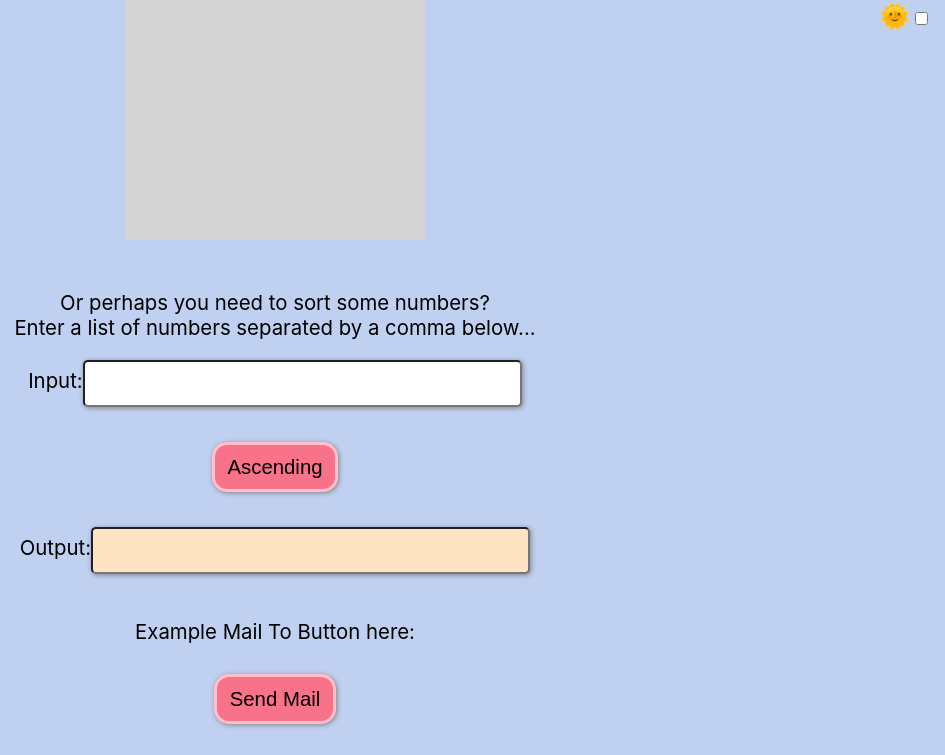
Scenario: As a user, I should be able to interact with all interactables in the home page › Makes sure the number sort properly in ascending order
This screenshot has width=945, height=755.
(page scrolled)
Type "1,4,2,5" into the field with class "Details-Form-Input" next to "Input:".
click(303, 385); type("1,4,2,5")  # box [83,361,522,408]
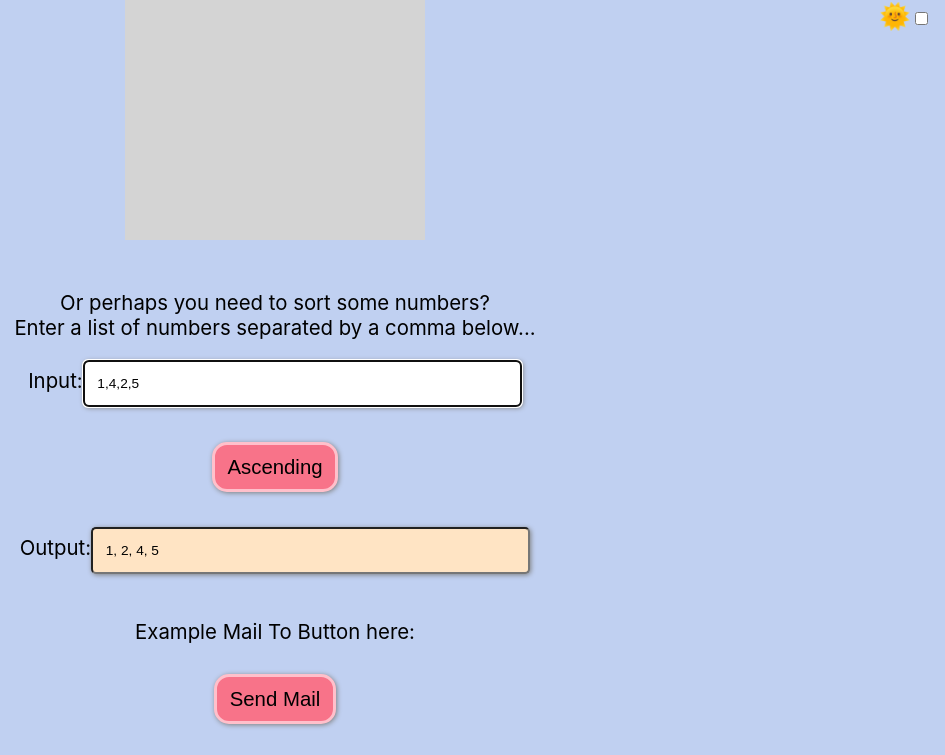
Result: the field with class "Details-Form-Input" next to "Output:" holds "1, 2, 4, 5" at [91,527,530,574]
